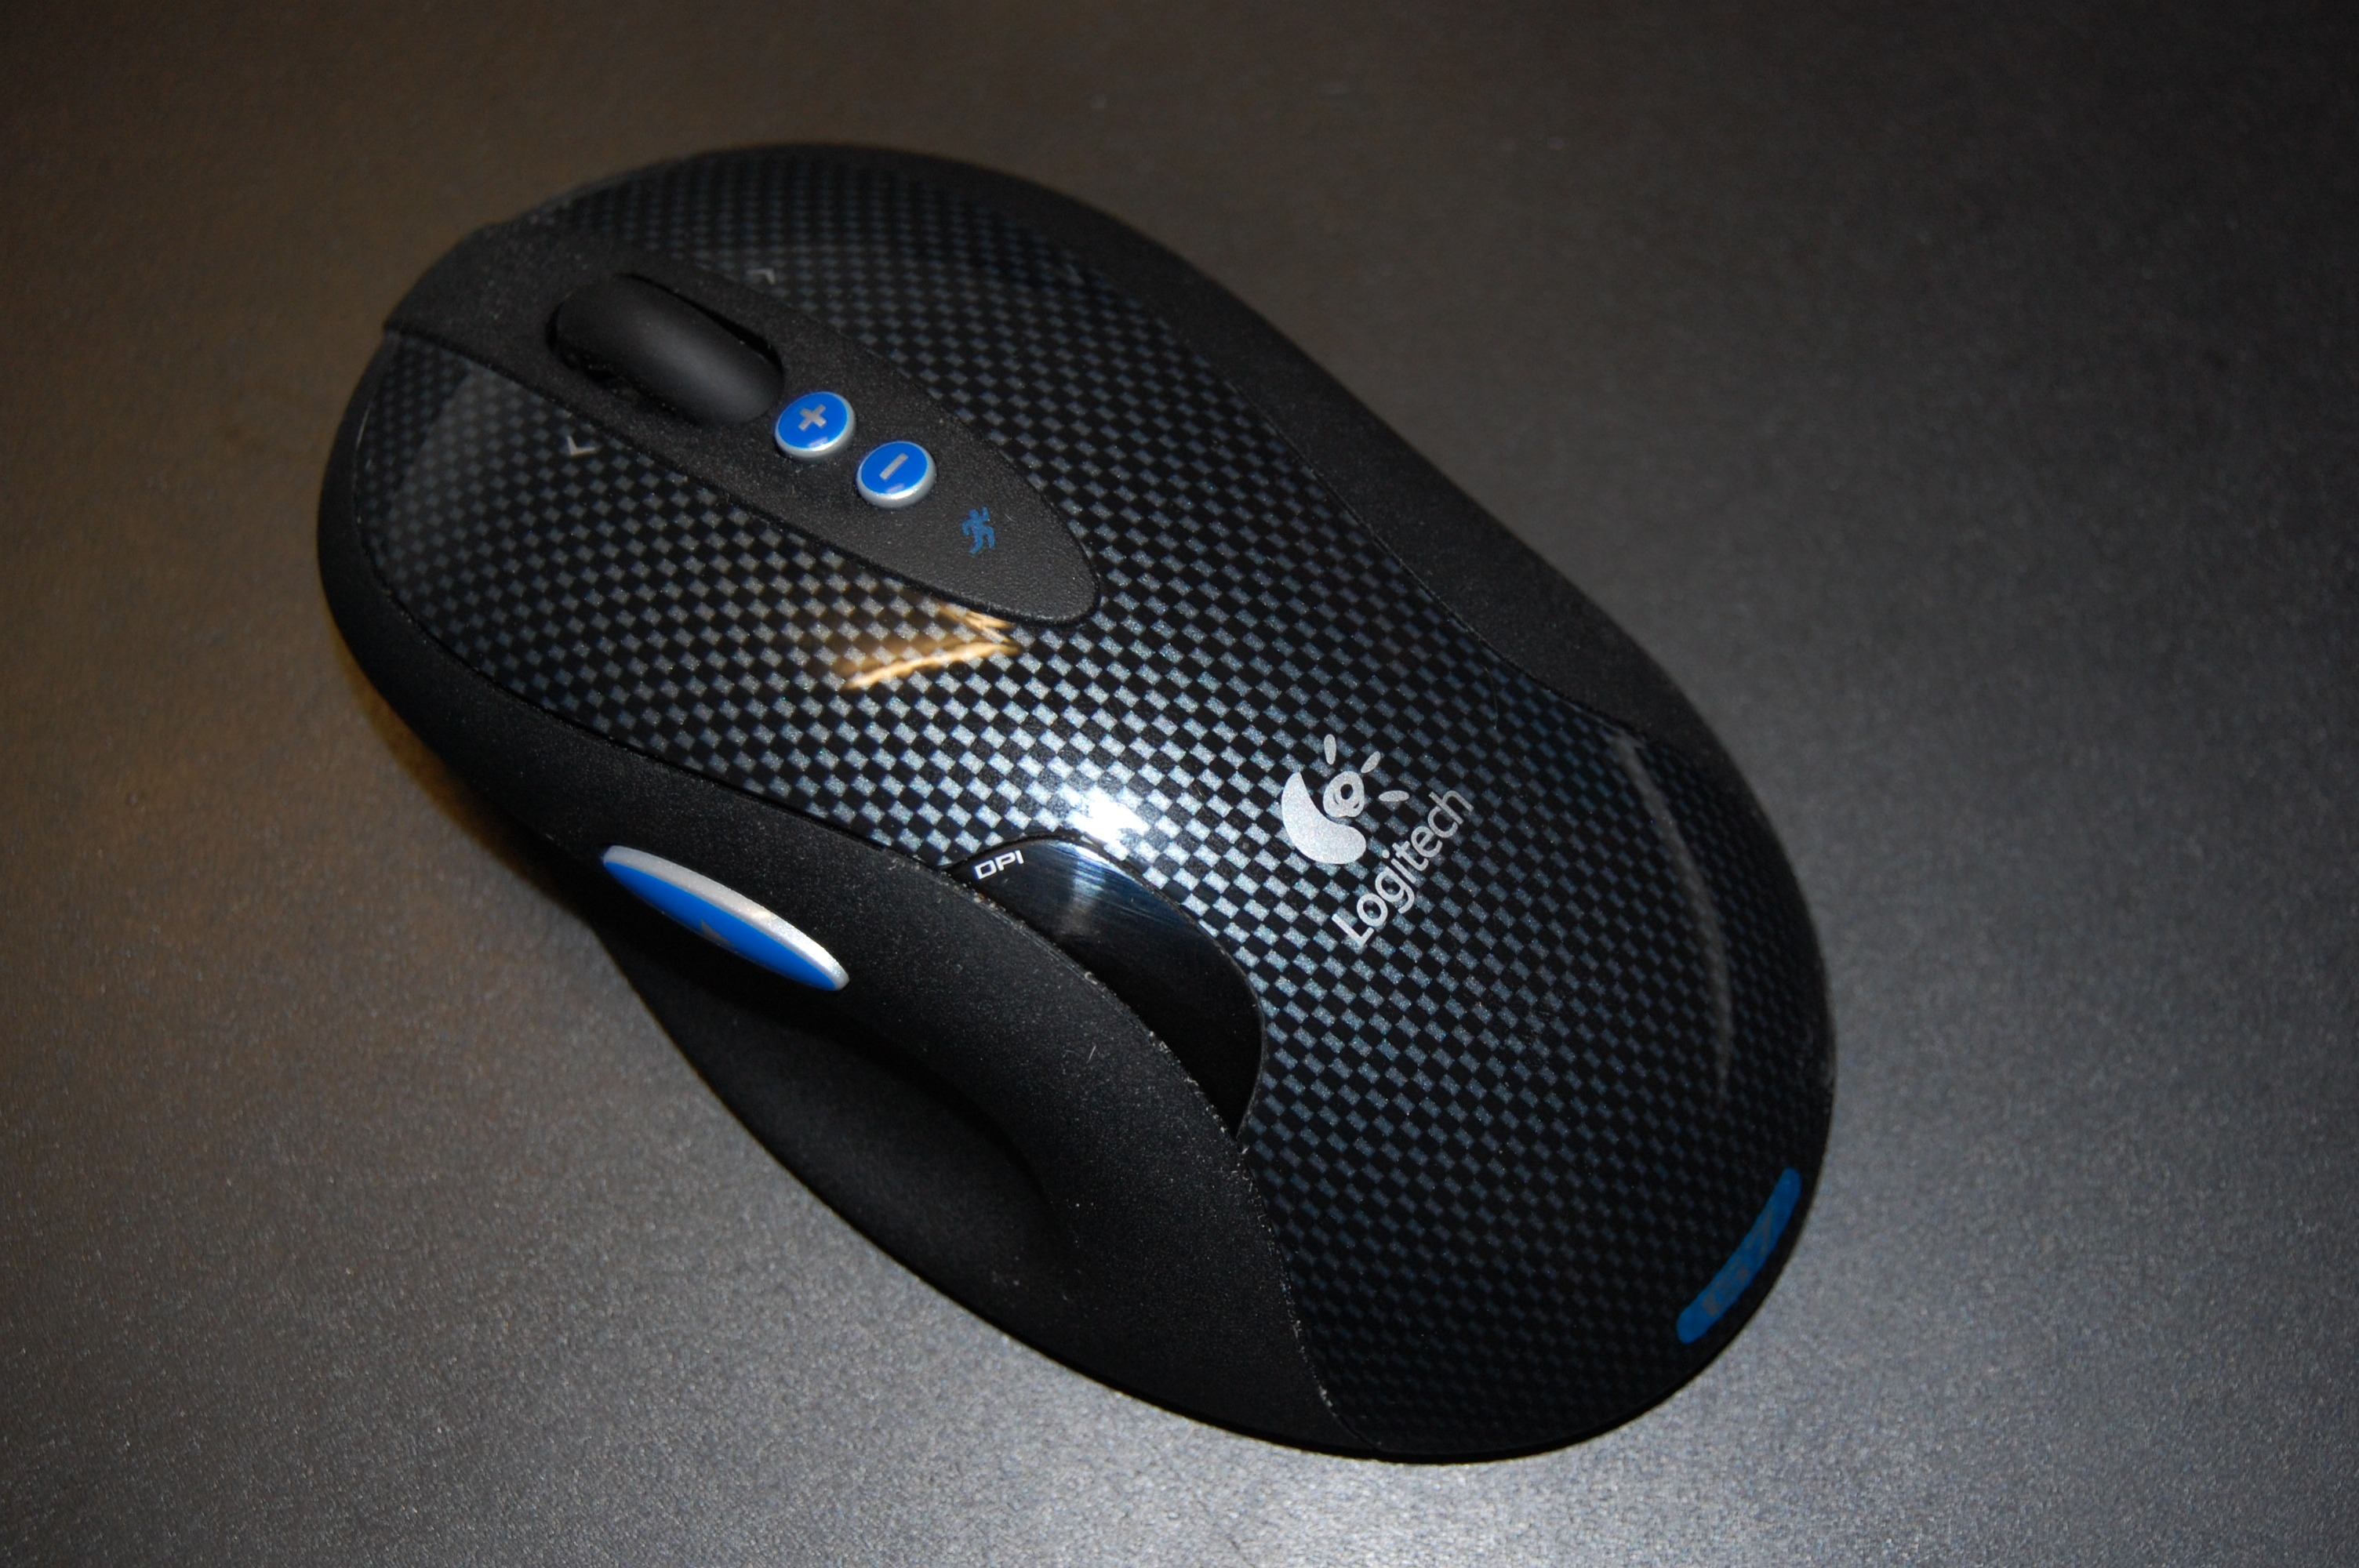mouse: (273, 110, 1832, 1475)
